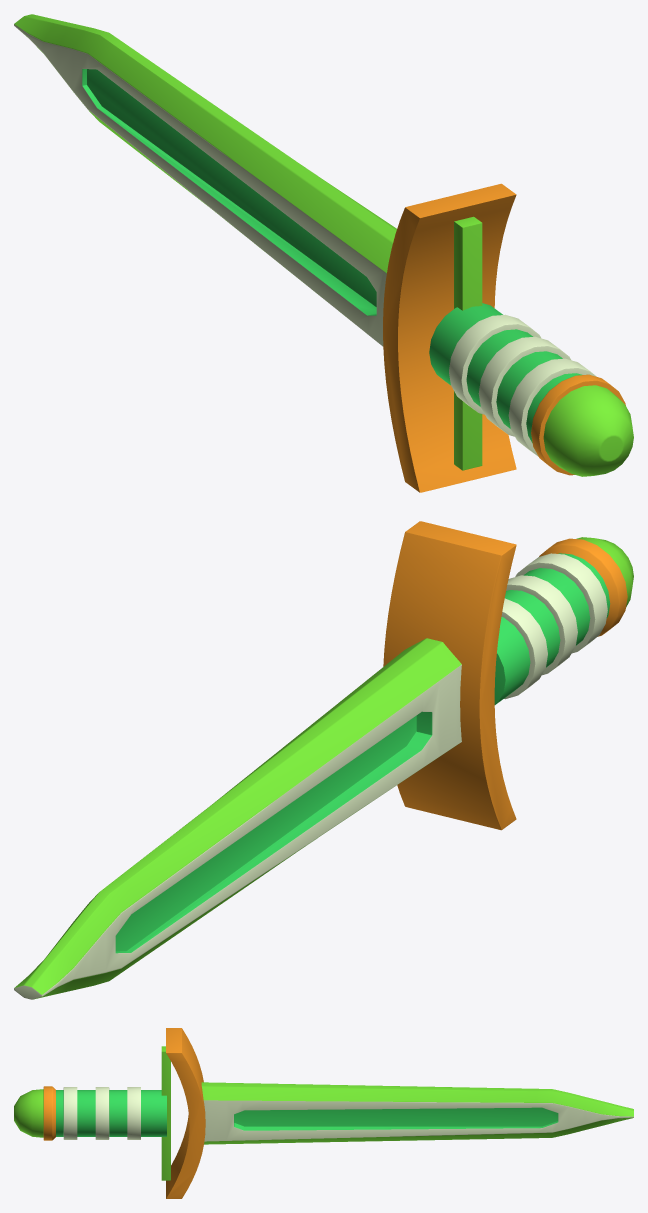
File: Sword_RangersLongblade.glb
The picture shows the model from 3 angles, top to bottom: view 1: azimuth 30°, elevation 25°; view 2: azimuth 150°, elevation 25°; view 3: azimuth 270°, elevation 25°; orthographic projection. The views are drawn at different scales.
Visible parts, largest first — view 1: Sword_RangersLongblade; view 2: Sword_RangersLongblade; view 3: Sword_RangersLongblade.
Part boxes in pixels (bbox=[...]): Sword_RangersLongblade: bbox=[14, 14, 633, 492]; Sword_RangersLongblade: bbox=[14, 521, 633, 999]; Sword_RangersLongblade: bbox=[14, 1028, 633, 1198].
Size of the model in its own units: 0.096 by 0.26 by 1.
1 material, 1 textured.
